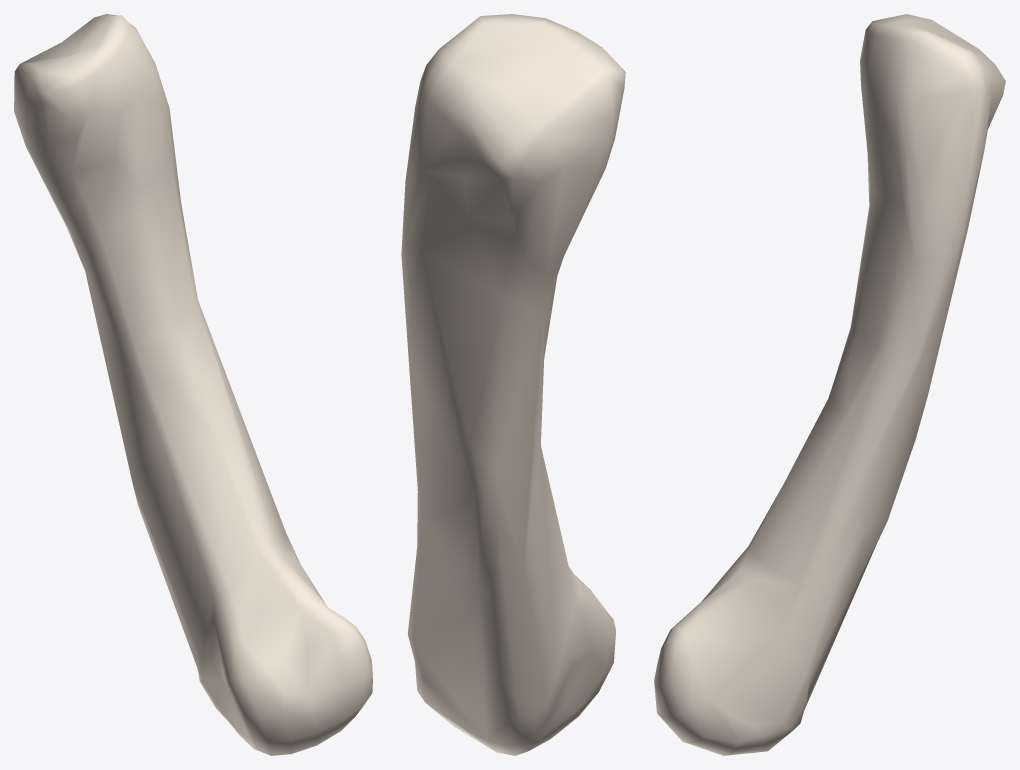
The model's file is right_metacarpal_5.glb.
3 renders of one model, left to right at view 1: azimuth 30°, elevation 25°; view 2: azimuth 150°, elevation 25°; view 3: azimuth 270°, elevation 25°, orthographic. The views are drawn at different scales.
Parts seen in each view (by area): view 1: 5th metacarpal bone.r; view 2: 5th metacarpal bone.r; view 3: 5th metacarpal bone.r.
Boxes of the visible parts, <box> form: 5th metacarpal bone.r: <box>14,14,372,755</box>; 5th metacarpal bone.r: <box>401,14,625,755</box>; 5th metacarpal bone.r: <box>654,14,1005,755</box>.
Bounding box in the file's own units: 0.015 × 0.0415 × 0.0193.
